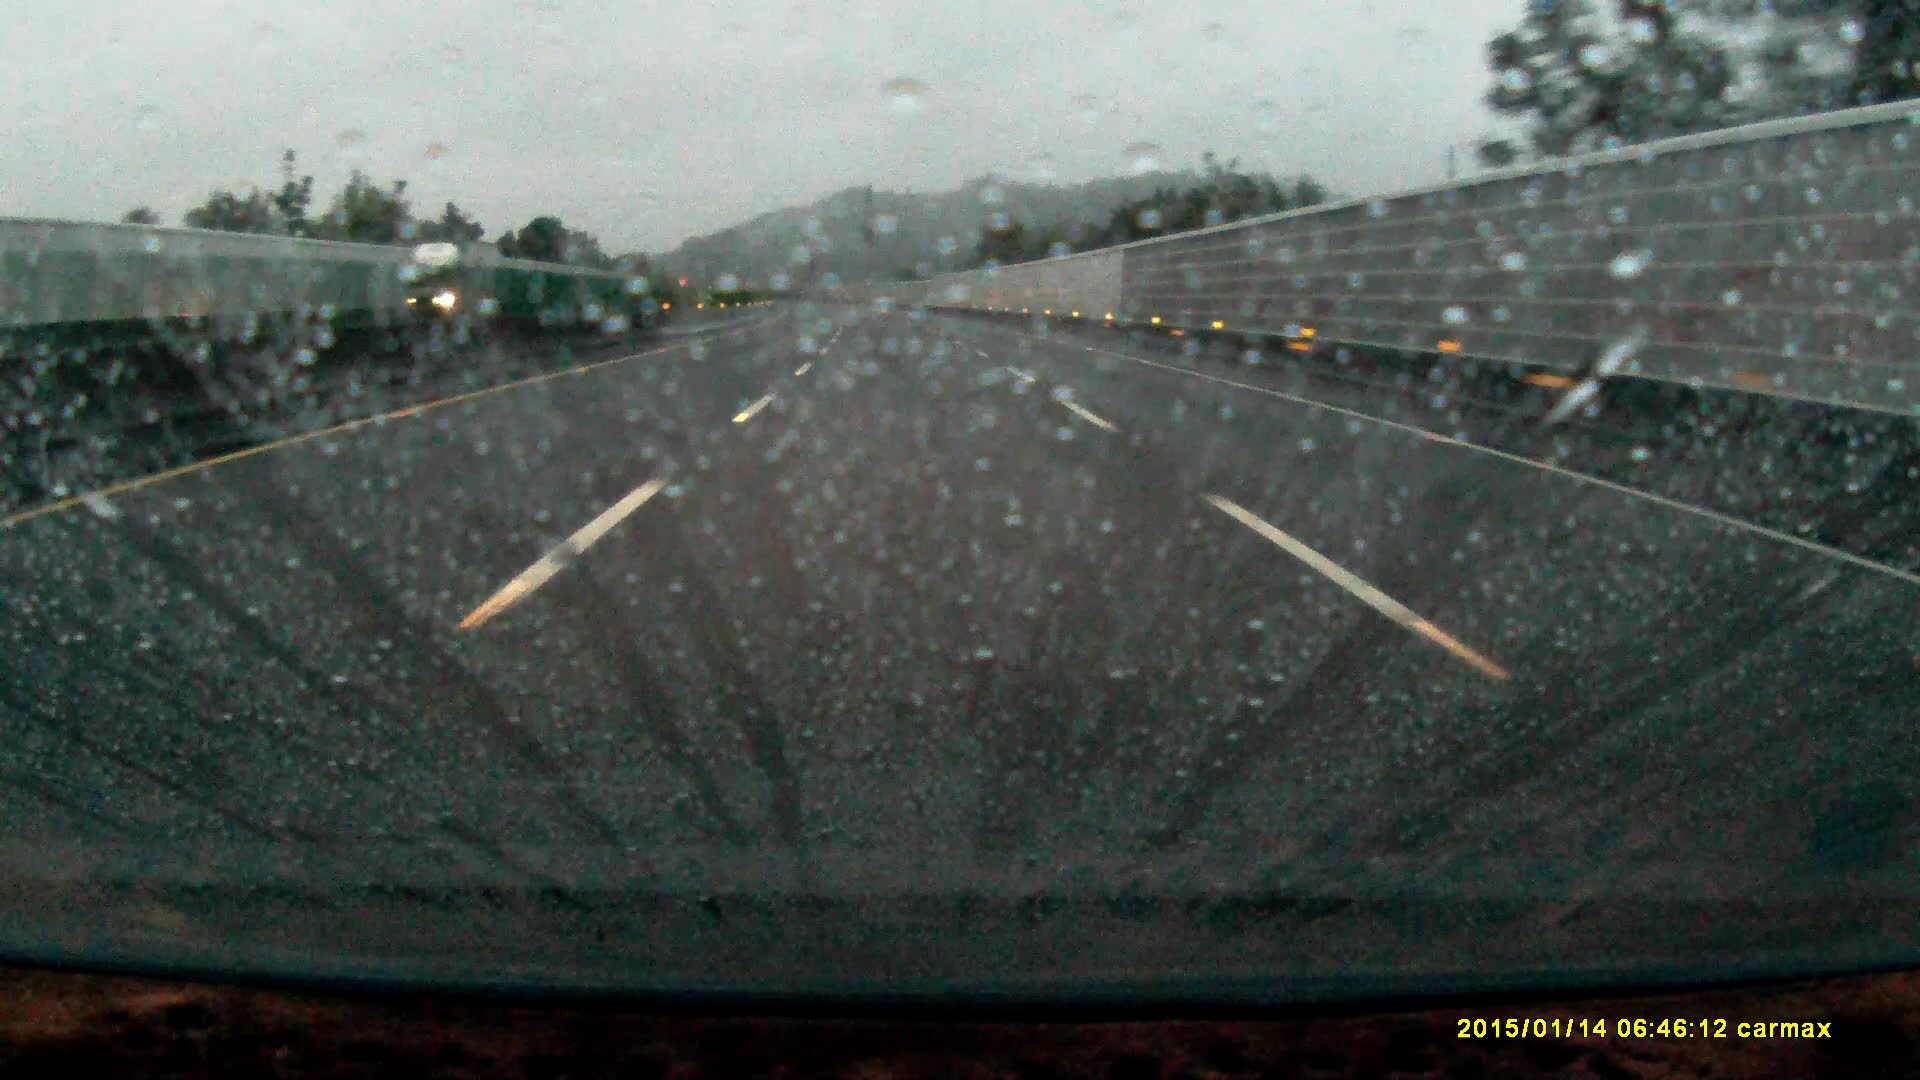vehicle: (407, 239, 500, 322)
